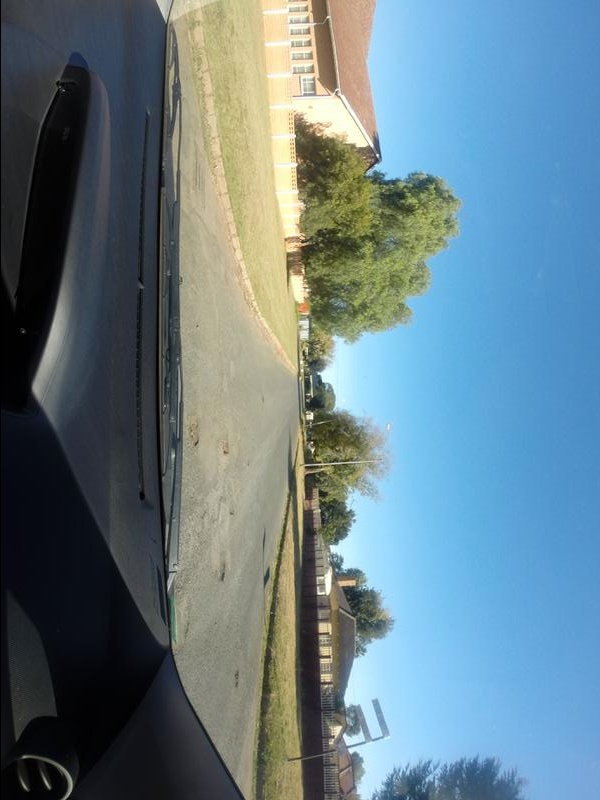pothole: (176, 598, 198, 650), (188, 415, 210, 458), (212, 433, 231, 472), (212, 556, 231, 593), (230, 668, 244, 700)
